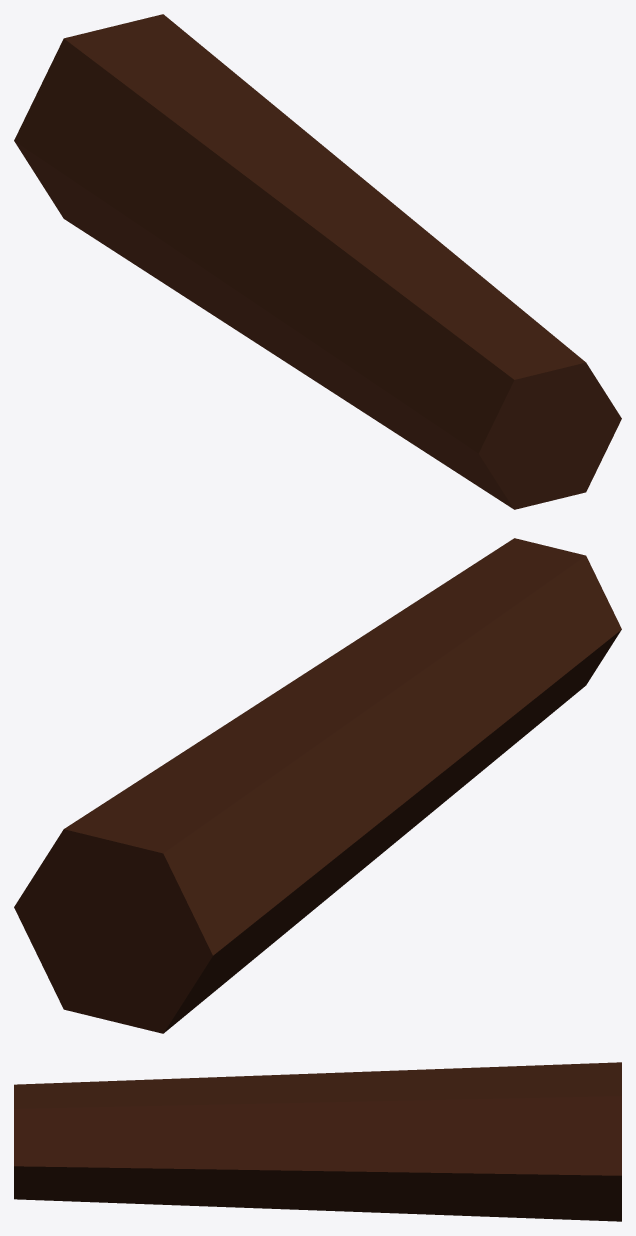
File: I03_Butterfly_Body.fbx
The picture shows the model from 3 angles, top to bottom: view 1: azimuth 30°, elevation 25°; view 2: azimuth 150°, elevation 25°; view 3: azimuth 270°, elevation 25°; orthographic projection. The views are drawn at different scales.
Parts seen in each view (by area): view 1: I03_Butterfly_Body; view 2: I03_Butterfly_Body; view 3: I03_Butterfly_Body.
Part boxes in pixels (box(x1,y1,x2,y2)): I03_Butterfly_Body: box(14, 14, 621, 509); I03_Butterfly_Body: box(14, 538, 621, 1033); I03_Butterfly_Body: box(14, 1062, 621, 1221).
Bounding box in the file's own units: 0.05 × 0.0433 × 0.19.
1 material, 1 textured.
